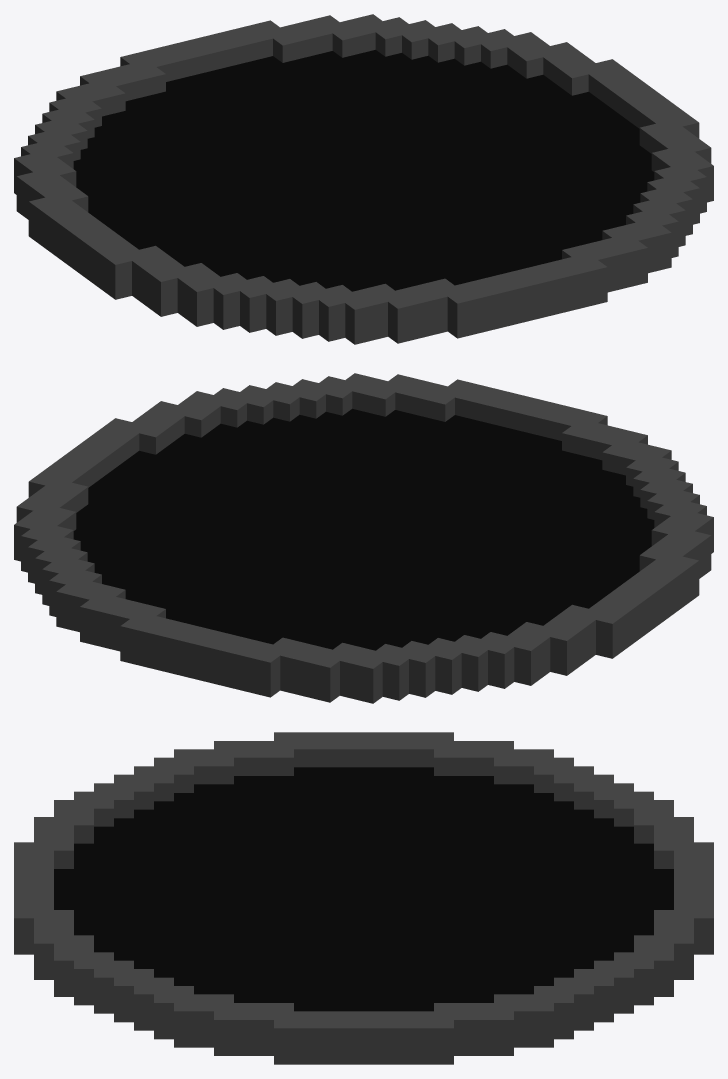
File: alcantarilla.fbx
The picture shows the model from 3 angles, top to bottom: view 1: azimuth 30°, elevation 25°; view 2: azimuth 150°, elevation 25°; view 3: azimuth 270°, elevation 25°; orthographic projection. The views are drawn at different scales.
Visible parts, largest first — view 1: alcantarilla; view 2: alcantarilla; view 3: alcantarilla.
Boxes of the visible parts, bbox=[...] form: alcantarilla: bbox=[14, 14, 713, 344]; alcantarilla: bbox=[14, 373, 713, 703]; alcantarilla: bbox=[14, 732, 713, 1064].
Bounding box in the file's own units: 105 × 6 × 105.
